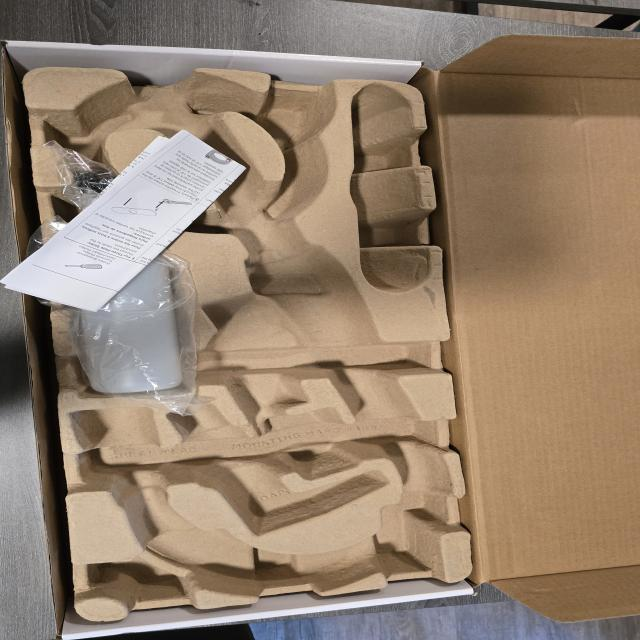1m: (77, 68, 452, 596)
2m: (164, 402, 388, 535)
3o: (65, 232, 181, 393)
4m: (351, 81, 431, 294)
5m: (260, 97, 324, 149)
6m: (45, 91, 137, 148)
7o: (56, 143, 163, 226)
8: (1, 129, 249, 312)
